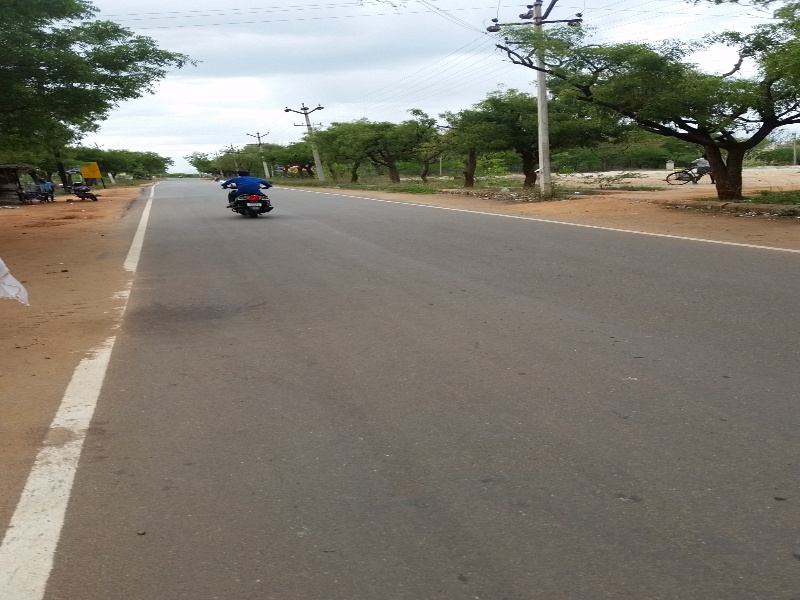biker: (210, 149, 288, 225)
nohelmet: (235, 163, 256, 182)
